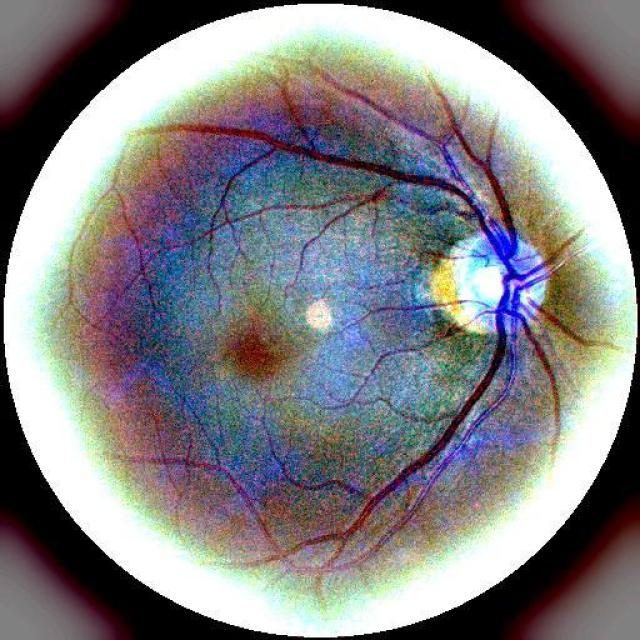Macula: (226, 332, 279, 376)
Nerves: (131, 120, 546, 284), (272, 80, 322, 154)
Optic Disk: (420, 232, 552, 332)
